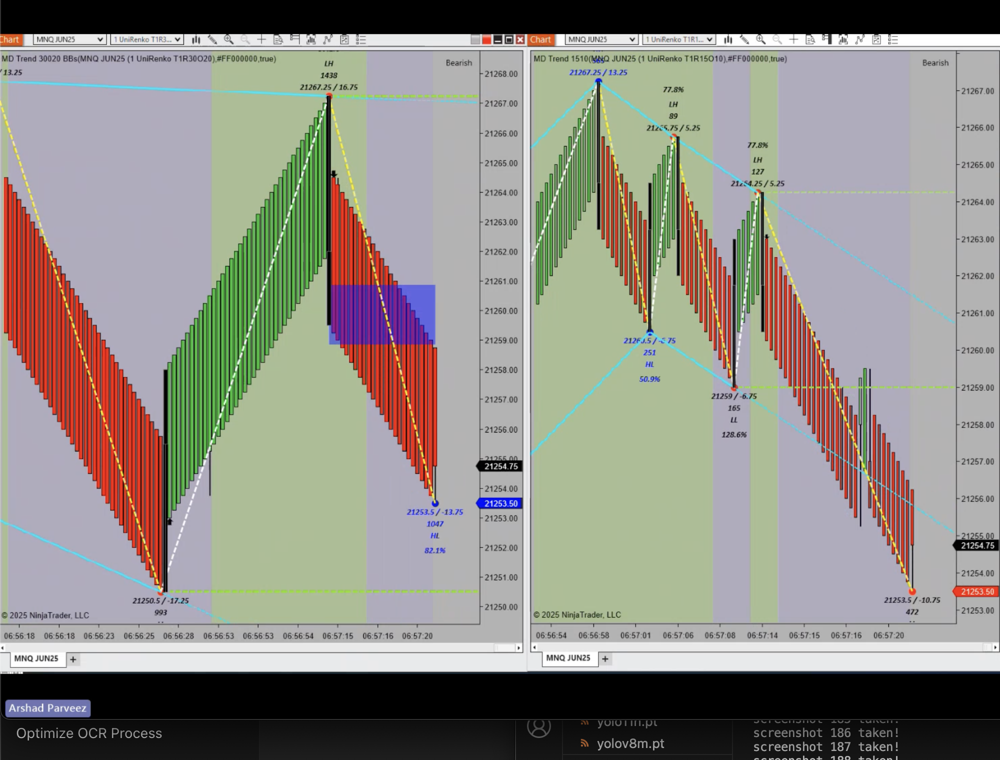HL: (639, 355, 662, 375), (424, 529, 446, 549)
LH: (744, 147, 774, 170), (664, 96, 689, 116), (319, 57, 343, 73)
LL: (724, 412, 743, 430)
